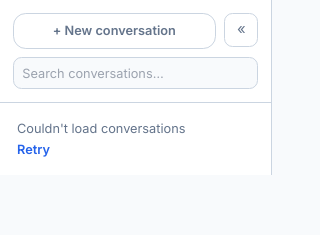
Test: ConversationPanel › shows an error with Retry
Expected: the text "Couldn't load conversations" is shown, [17, 121, 185, 136]
Click the button "Retry" at x=34, y=150, box [17, 141, 50, 158]
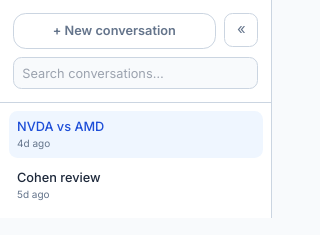
Result: the text "NVDA vs AMD" is shown at [17, 119, 104, 134]
